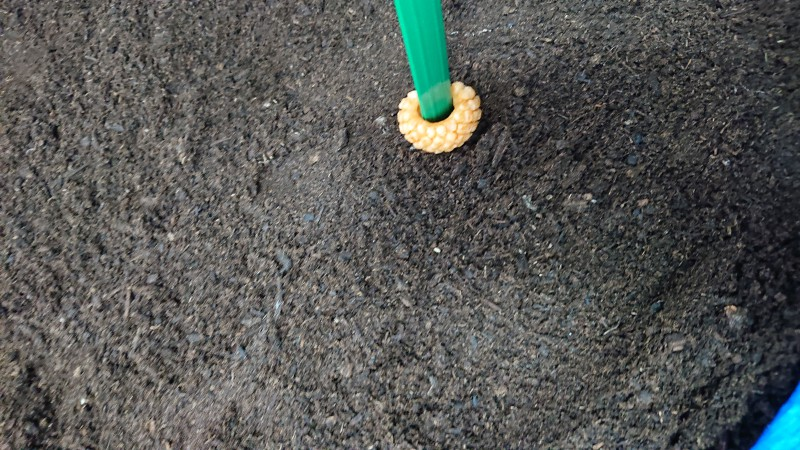eggs: (390, 78, 488, 157)
